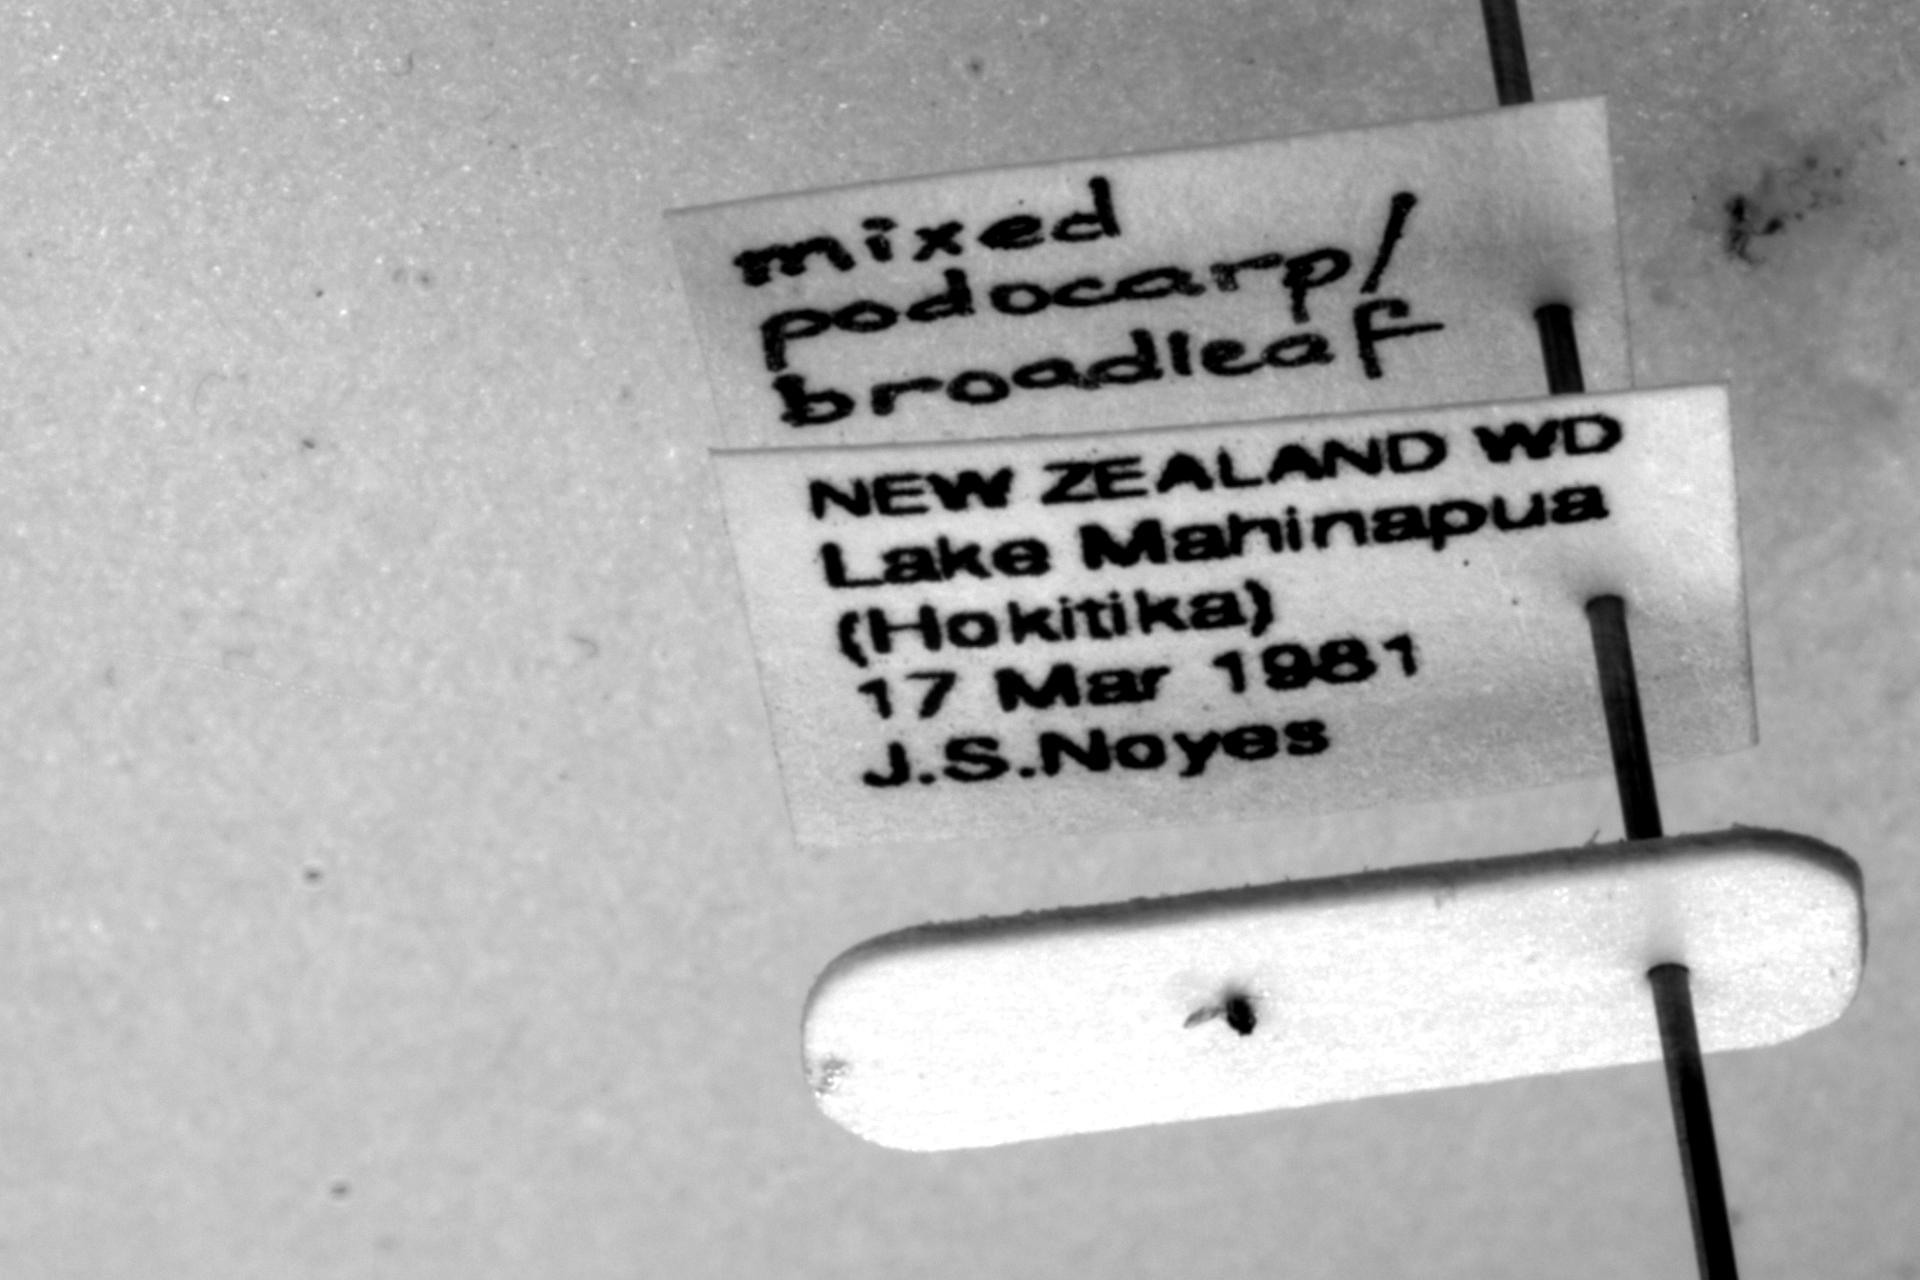hand_label: (667, 97, 1631, 446)
typed_label: (716, 386, 1754, 847)
